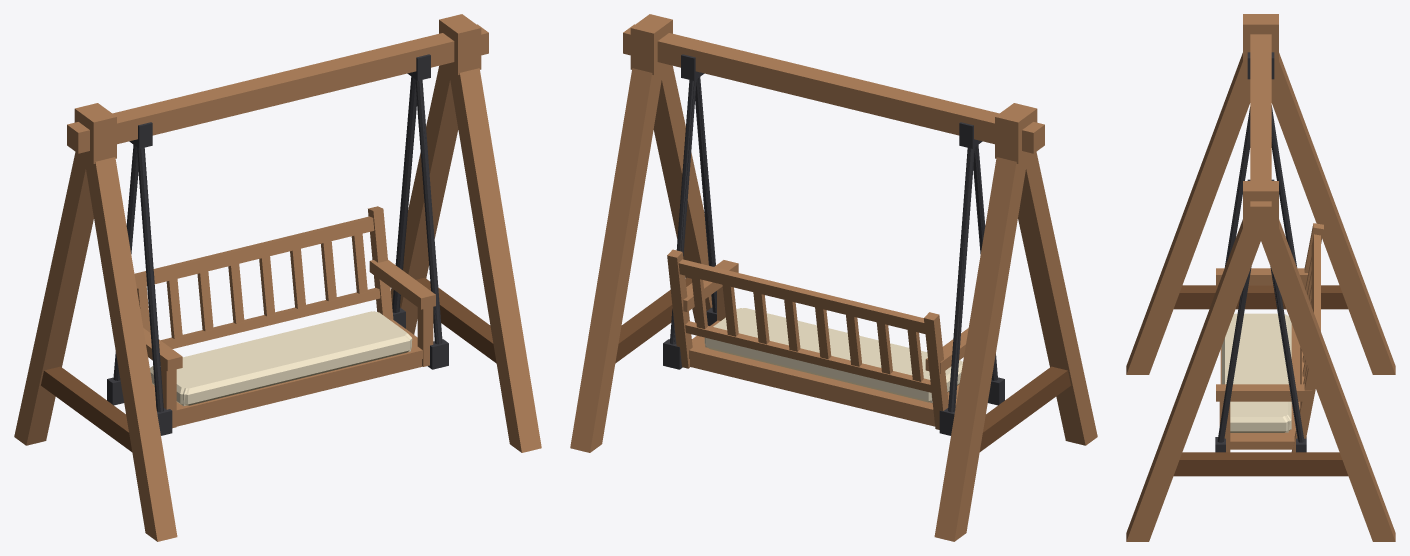
Rendered from FMS_Garden_Swing.fbx.
The picture shows the model from 3 angles, left to right: view 1: azimuth 30°, elevation 25°; view 2: azimuth 150°, elevation 25°; view 3: azimuth 270°, elevation 25°; orthographic projection. The views are drawn at different scales.
Parts seen in each view (by area): view 1: Seat, FMS_Garden_Swing_EndFrame_A, FMS_Garden_Swing_EndFrame_B, FMS_Garden_Swing_Beam, Seat_Low1; view 2: Seat, FMS_Garden_Swing_EndFrame_A, FMS_Garden_Swing_EndFrame_B, FMS_Garden_Swing_Beam, Seat_Low1; view 3: FMS_Garden_Swing_EndFrame_B, FMS_Garden_Swing_EndFrame_A, Seat, Seat_Low1, FMS_Garden_Swing_Beam.
Boxes of the visible parts, bbox=[...] form: Seat: bbox=[107, 77, 448, 435]; FMS_Garden_Swing_EndFrame_A: bbox=[14, 103, 177, 541]; FMS_Garden_Swing_EndFrame_B: bbox=[391, 14, 541, 452]; FMS_Garden_Swing_Beam: bbox=[67, 24, 488, 153]; Seat_Low1: bbox=[107, 77, 448, 435]; Seat: bbox=[663, 77, 1004, 435]; FMS_Garden_Swing_EndFrame_A: bbox=[934, 103, 1097, 541]; FMS_Garden_Swing_EndFrame_B: bbox=[570, 14, 712, 452]; FMS_Garden_Swing_Beam: bbox=[623, 24, 1044, 153]; Seat_Low1: bbox=[663, 78, 1004, 435]; FMS_Garden_Swing_EndFrame_B: bbox=[1126, 181, 1395, 541]; FMS_Garden_Swing_EndFrame_A: bbox=[1126, 14, 1395, 374]; Seat: bbox=[1215, 107, 1323, 452]; Seat_Low1: bbox=[1215, 105, 1323, 452]; FMS_Garden_Swing_Beam: bbox=[1247, 34, 1274, 225].
Bounding box in the file's own units: 2.48 × 2.16 × 1.5.
Materials: 1 (1 with a texture image).
